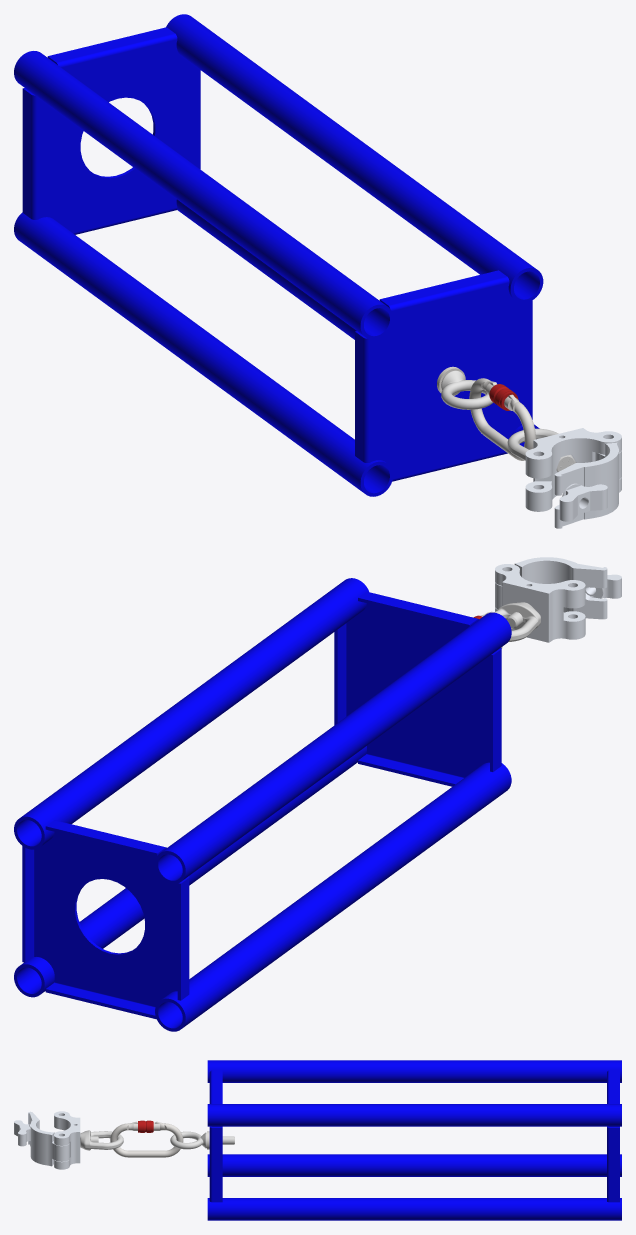
File: BlueShallowCage.fbx
3 renders of one model, top to bottom at view 1: azimuth 30°, elevation 25°; view 2: azimuth 150°, elevation 25°; view 3: azimuth 270°, elevation 25°, orthographic. The views are drawn at different scales.
Parts seen in each view (by area): view 1: GE-25201-02, GE-25201-01, GE-25201-03.002, GE-25201-03, GE-25201-03.003, FE-01016.001, FE-01016.002, 3216T41_Carabiner, GE-25201-03.001, FE-01016.003, eyebolt_shoulder_.5_13_1.5; view 2: GE-25201-01, GE-25201-02, GE-25201-03.002, GE-25201-03, GE-25201-03.003, GE-25201-03.001, FE-01016.001, FE-01016.002, eyenut_.5-13_3019T18; view 3: GE-25201-03.003, GE-25201-03.001, GE-25201-03.002, GE-25201-03, GE-25201-02, GE-25201-01, FE-01016.002, 3216T41_Carabiner, FE-01016.001, eyenut_.5-13_3019T18, eyebolt_shoulder_.5_13_1.5, FE-01016.003.
Part boxes in pixels (x1=…): GE-25201-02: x1=355, y1=270, x2=532, y2=481; GE-25201-01: x1=22, y1=27, x2=200, y2=234; GE-25201-03.002: x1=14, y1=51, x2=393, y2=339; GE-25201-03: x1=14, y1=212, x2=393, y2=496; GE-25201-03.003: x1=166, y1=14, x2=543, y2=303; FE-01016.001: x1=525, y1=428, x2=621, y2=511; FE-01016.002: x1=554, y1=442, x2=621, y2=528; 3216T41_Carabiner: x1=469, y1=378, x2=535, y2=460; GE-25201-03.001: x1=176, y1=199, x2=539, y2=446; FE-01016.003: x1=559, y1=484, x2=607, y2=521; eyebolt_shoulder_.5_13_1.5: x1=441, y1=370, x2=493, y2=409; GE-25201-01: x1=22, y1=820, x2=189, y2=1019; GE-25201-02: x1=334, y1=591, x2=501, y2=786; GE-25201-03.002: x1=155, y1=612, x2=511, y2=883; GE-25201-03: x1=155, y1=762, x2=511, y2=1031; GE-25201-03.003: x1=14, y1=578, x2=368, y2=849; GE-25201-03.001: x1=14, y1=746, x2=366, y2=997; FE-01016.001: x1=495, y1=564, x2=585, y2=642; FE-01016.002: x1=495, y1=557, x2=607, y2=619; eyenut_.5-13_3019T18: x1=495, y1=602, x2=540, y2=641; GE-25201-03.003: x1=207, y1=1104, x2=621, y2=1126; GE-25201-03.001: x1=207, y1=1198, x2=621, y2=1220; GE-25201-03.002: x1=207, y1=1060, x2=621, y2=1082; GE-25201-03: x1=207, y1=1154, x2=621, y2=1176; GE-25201-02: x1=209, y1=1070, x2=222, y2=1202; GE-25201-01: x1=607, y1=1070, x2=619, y2=1202; FE-01016.002: x1=28, y1=1111, x2=69, y2=1166; 3216T41_Carabiner: x1=110, y1=1120, x2=183, y2=1157; FE-01016.001: x1=54, y1=1111, x2=80, y2=1169; eyenut_.5-13_3019T18: x1=80, y1=1130, x2=123, y2=1150; eyebolt_shoulder_.5_13_1.5: x1=170, y1=1131, x2=234, y2=1149; FE-01016.003: x1=14, y1=1120, x2=30, y2=1146.
Bounding box in the file's own units: 18.56 × 18.58 × 89.44.
